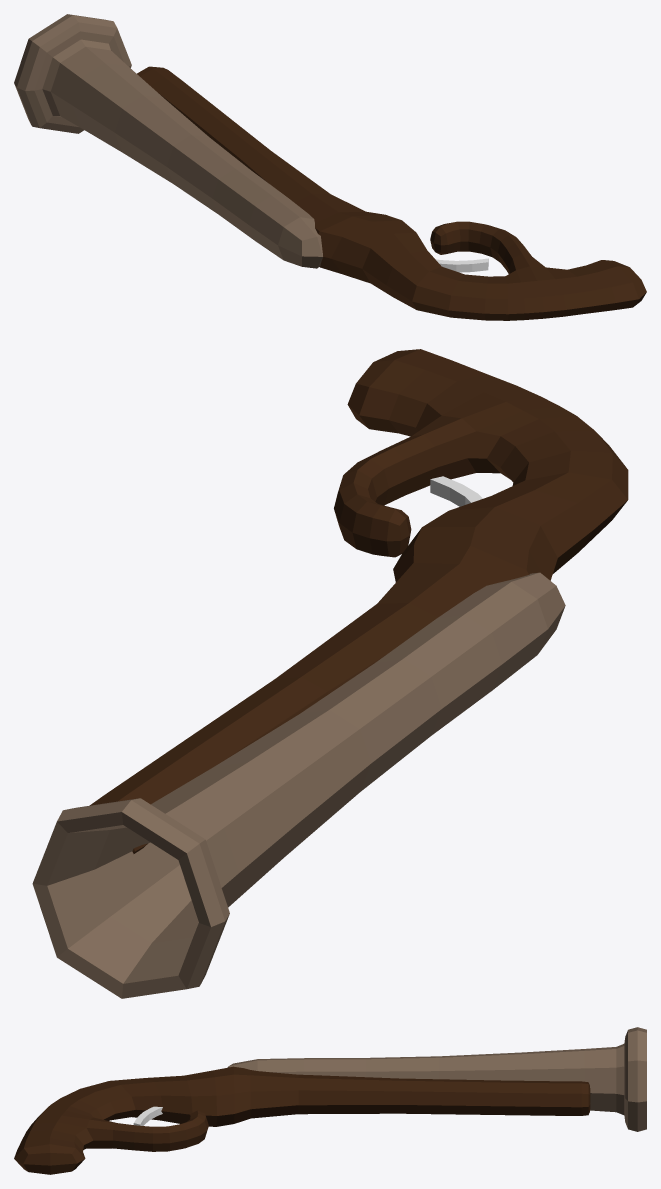
Rendered from armaPistola.fbx.
3 views of the same model, one above another, from view 1: azimuth 30°, elevation 25°; view 2: azimuth 150°, elevation 25°; view 3: azimuth 270°, elevation 25° (orthographic). The views are drawn at different scales.
Visible parts, largest first — view 1: Pistola; view 2: Pistola; view 3: Pistola.
Boxes of the visible parts, x1,y1,x2,y2 form: Pistola: (14, 14, 646, 320); Pistola: (32, 349, 628, 998); Pistola: (14, 1027, 646, 1174).
Bounding box in the file's own units: 0.3054 × 0.1285 × 0.7496.
